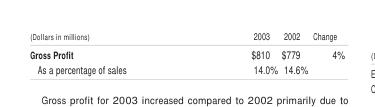table: (29, 28, 344, 76)
table column: (29, 28, 188, 76), (188, 28, 278, 76), (309, 28, 344, 76), (278, 28, 309, 76)
table column header: (29, 28, 344, 44)
table row: (29, 44, 344, 61), (29, 28, 344, 44), (29, 61, 344, 76)
